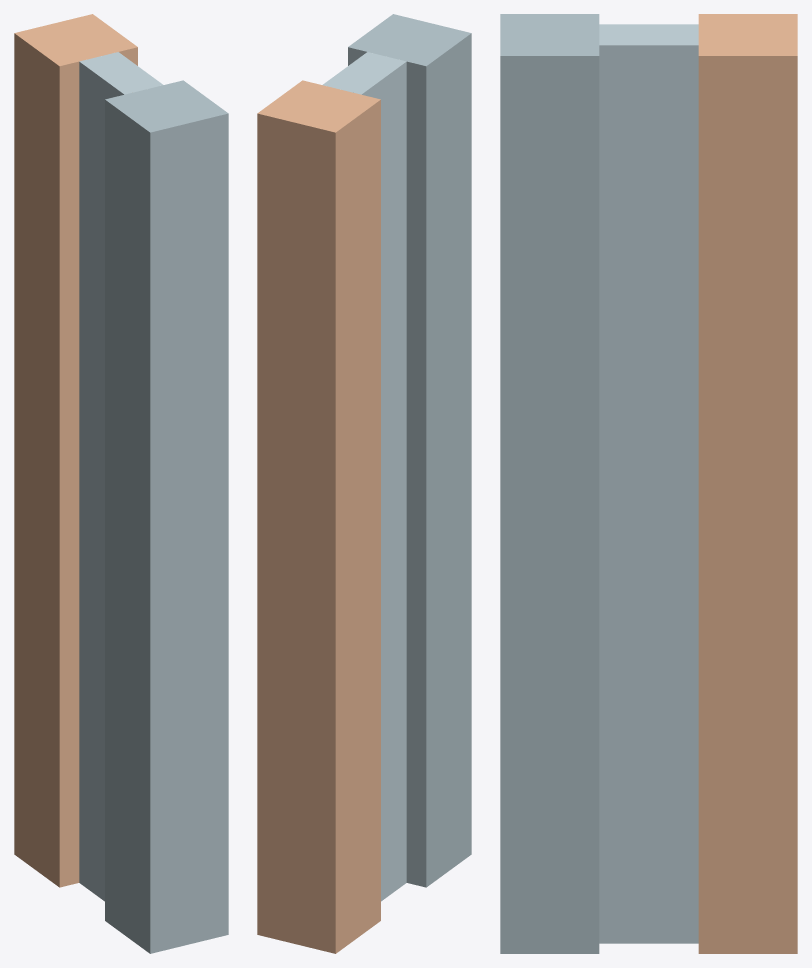
File: wallArch.glb
3 renders of one model, left to right at view 1: azimuth 30°, elevation 25°; view 2: azimuth 150°, elevation 25°; view 3: azimuth 270°, elevation 25°, orthographic. The views are drawn at different scales.
Parts seen in each view (by area): view 1: wallArch; view 2: wallArch; view 3: wallArch.
Boxes of the visible parts, left/top/right/bottom form: wallArch: left=14, top=14, right=228, bottom=953; wallArch: left=257, top=14, right=471, bottom=953; wallArch: left=500, top=14, right=797, bottom=953.
Size of the model in its own units: 0.1 by 1 by 0.3.
